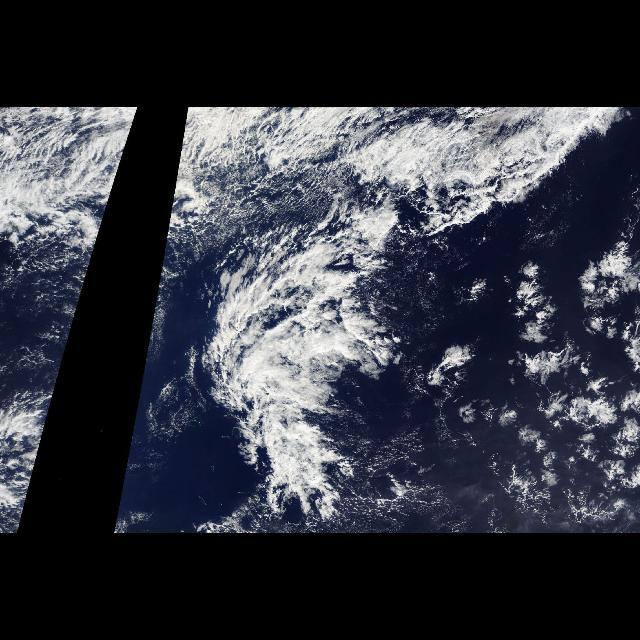Fish: (181, 183, 423, 531)
Flower: (500, 232, 638, 504)
